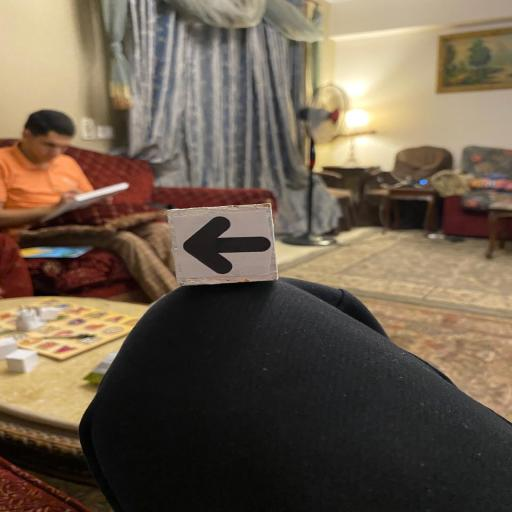Back: (166, 202, 282, 285)
